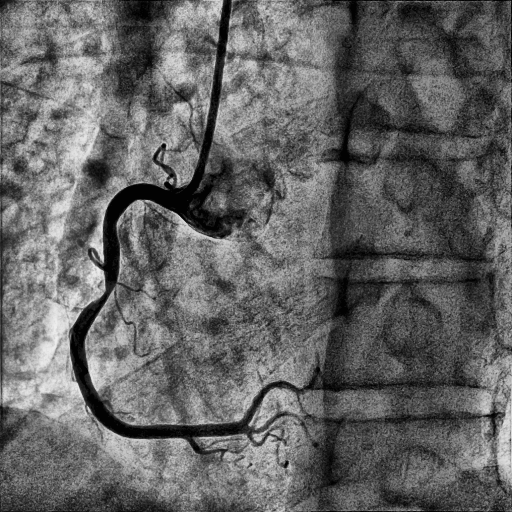rca: (70, 183, 244, 439)
